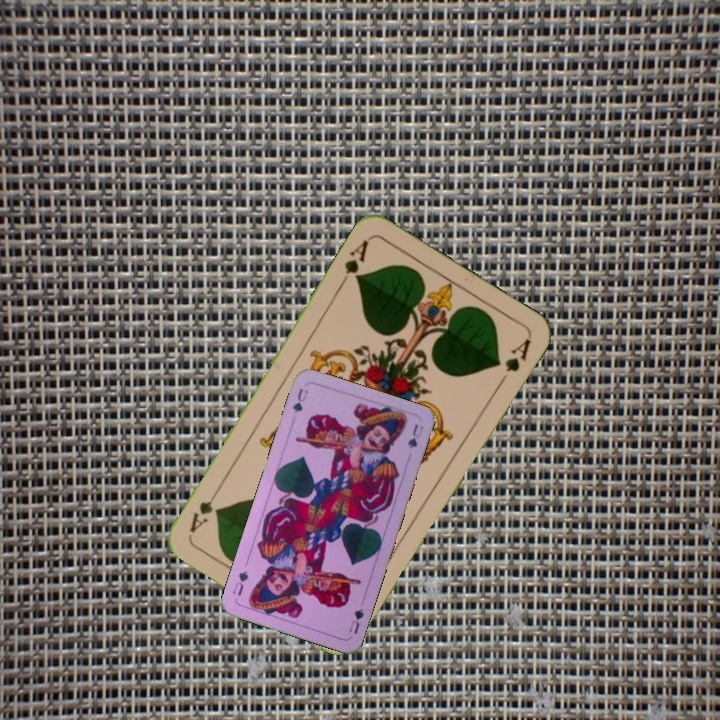GA: (336, 235, 372, 289)
GU: (345, 604, 367, 636), (288, 385, 310, 416)
